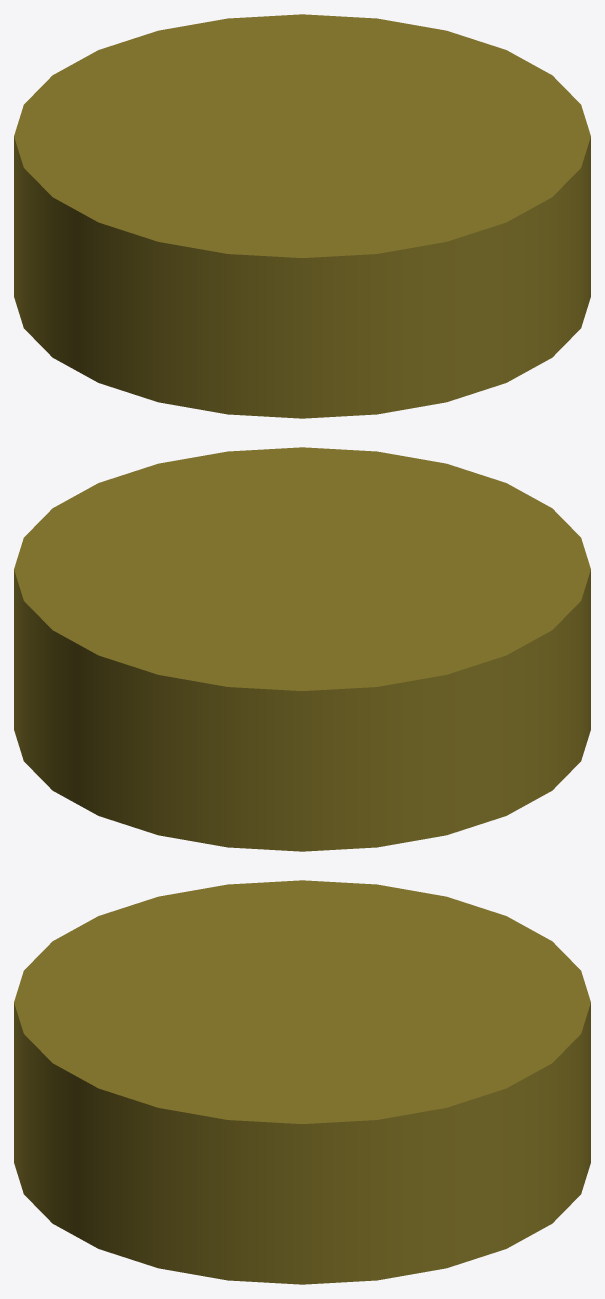
File: cylindar.obj
3 renders of one model, top to bottom at view 1: azimuth 30°, elevation 25°; view 2: azimuth 150°, elevation 25°; view 3: azimuth 270°, elevation 25°, orthographic.
Visible parts, largest first — view 1: Mesh1 Model; view 2: Mesh1 Model; view 3: Mesh1 Model.
Part boxes in pixels (left/top/right/bottom): Mesh1 Model: left=14, top=14, right=590, bottom=418; Mesh1 Model: left=14, top=447, right=590, bottom=851; Mesh1 Model: left=14, top=880, right=590, bottom=1284.
Bounding box in the file's own units: 127 × 38.94 × 127.
